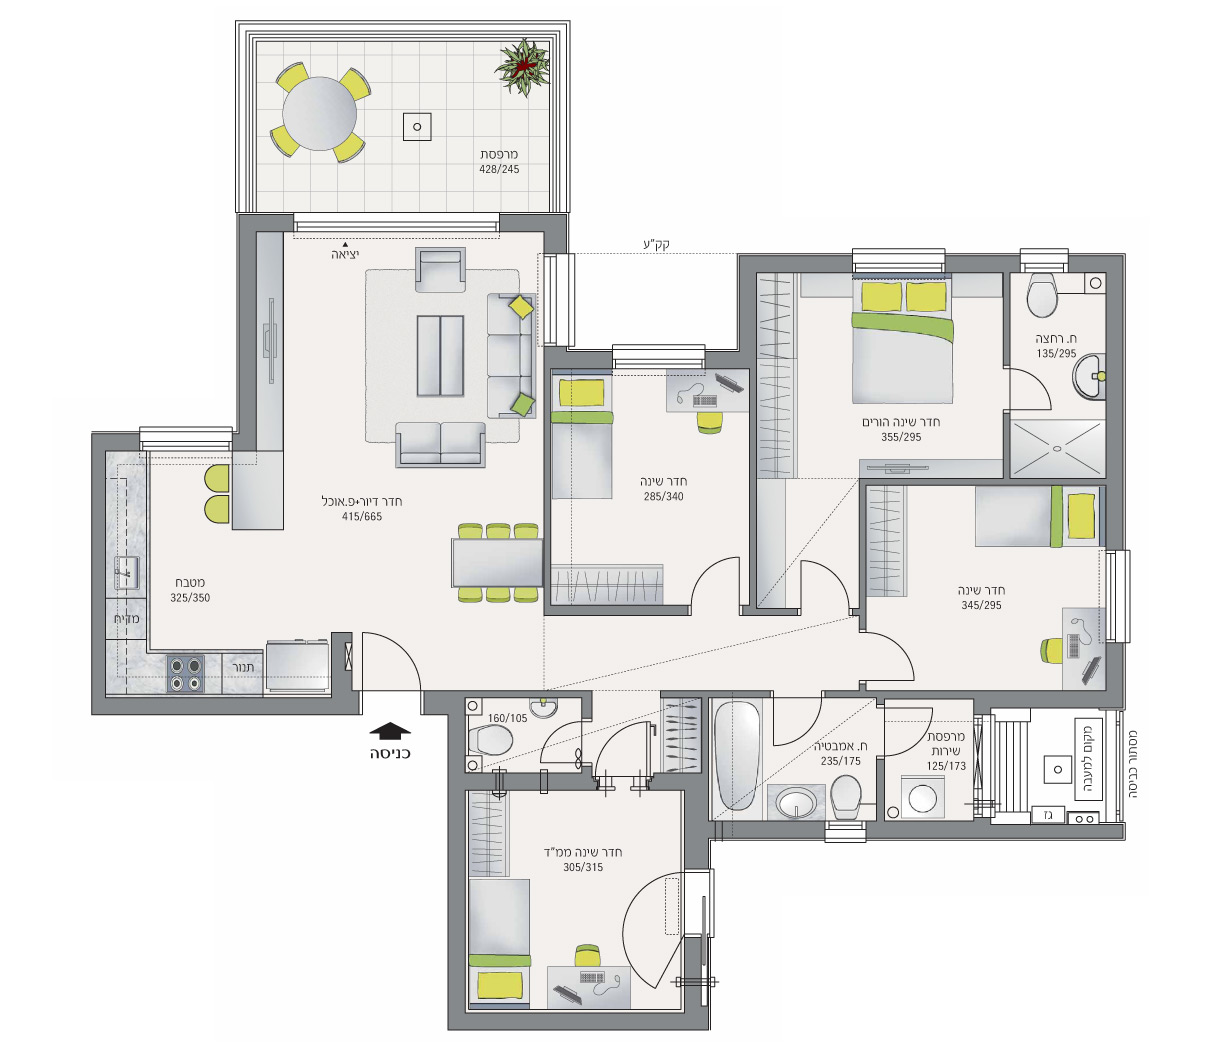door: (358, 628, 425, 688), (767, 700, 831, 759), (792, 552, 856, 611), (682, 547, 746, 606), (592, 713, 656, 772), (869, 627, 933, 686), (884, 703, 948, 762), (537, 714, 578, 769)
room: (446, 773, 709, 1031), (749, 253, 1013, 486), (858, 476, 1125, 698), (544, 349, 757, 617)
wall: (447, 691, 467, 1029), (1105, 252, 1125, 552), (238, 214, 257, 450), (92, 431, 108, 715), (93, 698, 359, 715), (740, 255, 755, 367)
window: (294, 213, 500, 234), (540, 253, 576, 347), (140, 424, 233, 451), (611, 346, 708, 371), (1106, 549, 1132, 643), (852, 248, 946, 274), (1105, 711, 1126, 823), (824, 818, 868, 845), (1020, 249, 1069, 272)
